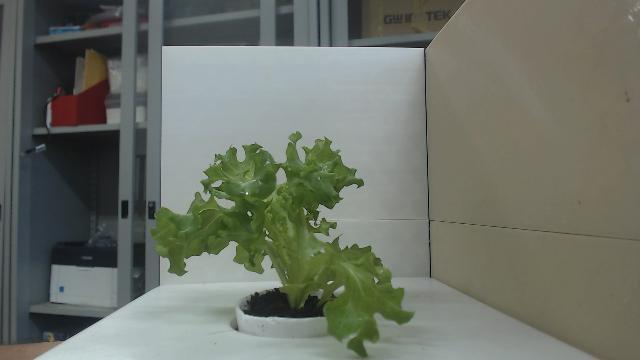Harvest Stage: (148, 130, 416, 358)
